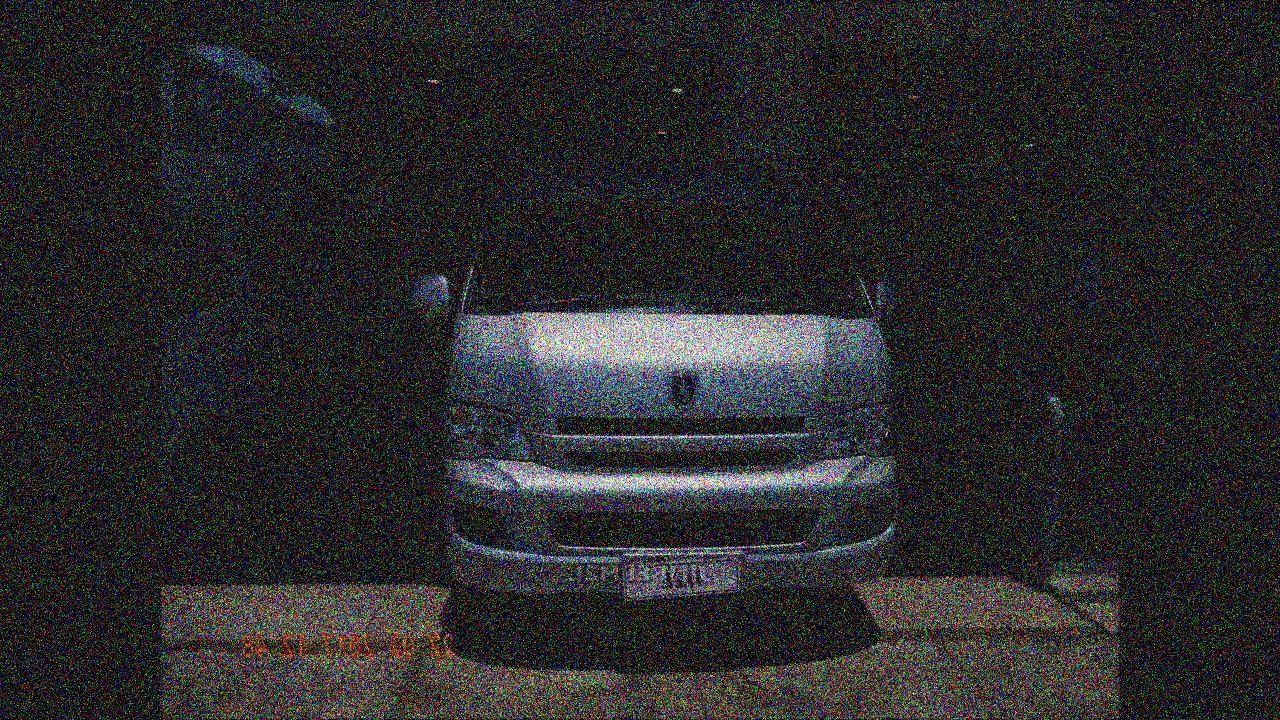van: (400, 144, 909, 632)
